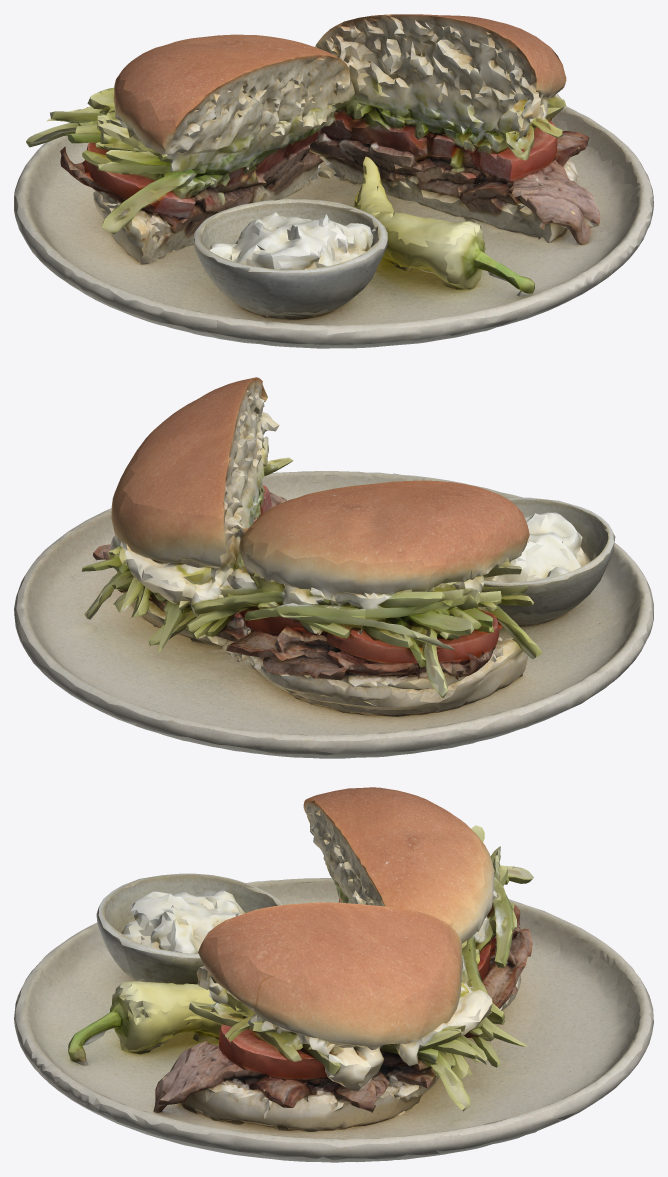
The model's file is bread.glb.
3 renders of one model, top to bottom at view 1: azimuth 30°, elevation 25°; view 2: azimuth 150°, elevation 25°; view 3: azimuth 270°, elevation 25°, orthographic.
Parts seen in each view (by area): view 1: default1; view 2: default1; view 3: default1.
Boxes of the visible parts, box(x1,y1,x2,y2) form: default1: box(14, 14, 653, 348); default1: box(14, 377, 653, 758); default1: box(14, 787, 653, 1162).
Bounding box in the file's own units: 0.2718 × 0.0956 × 0.2724.
1 material, 1 textured.
